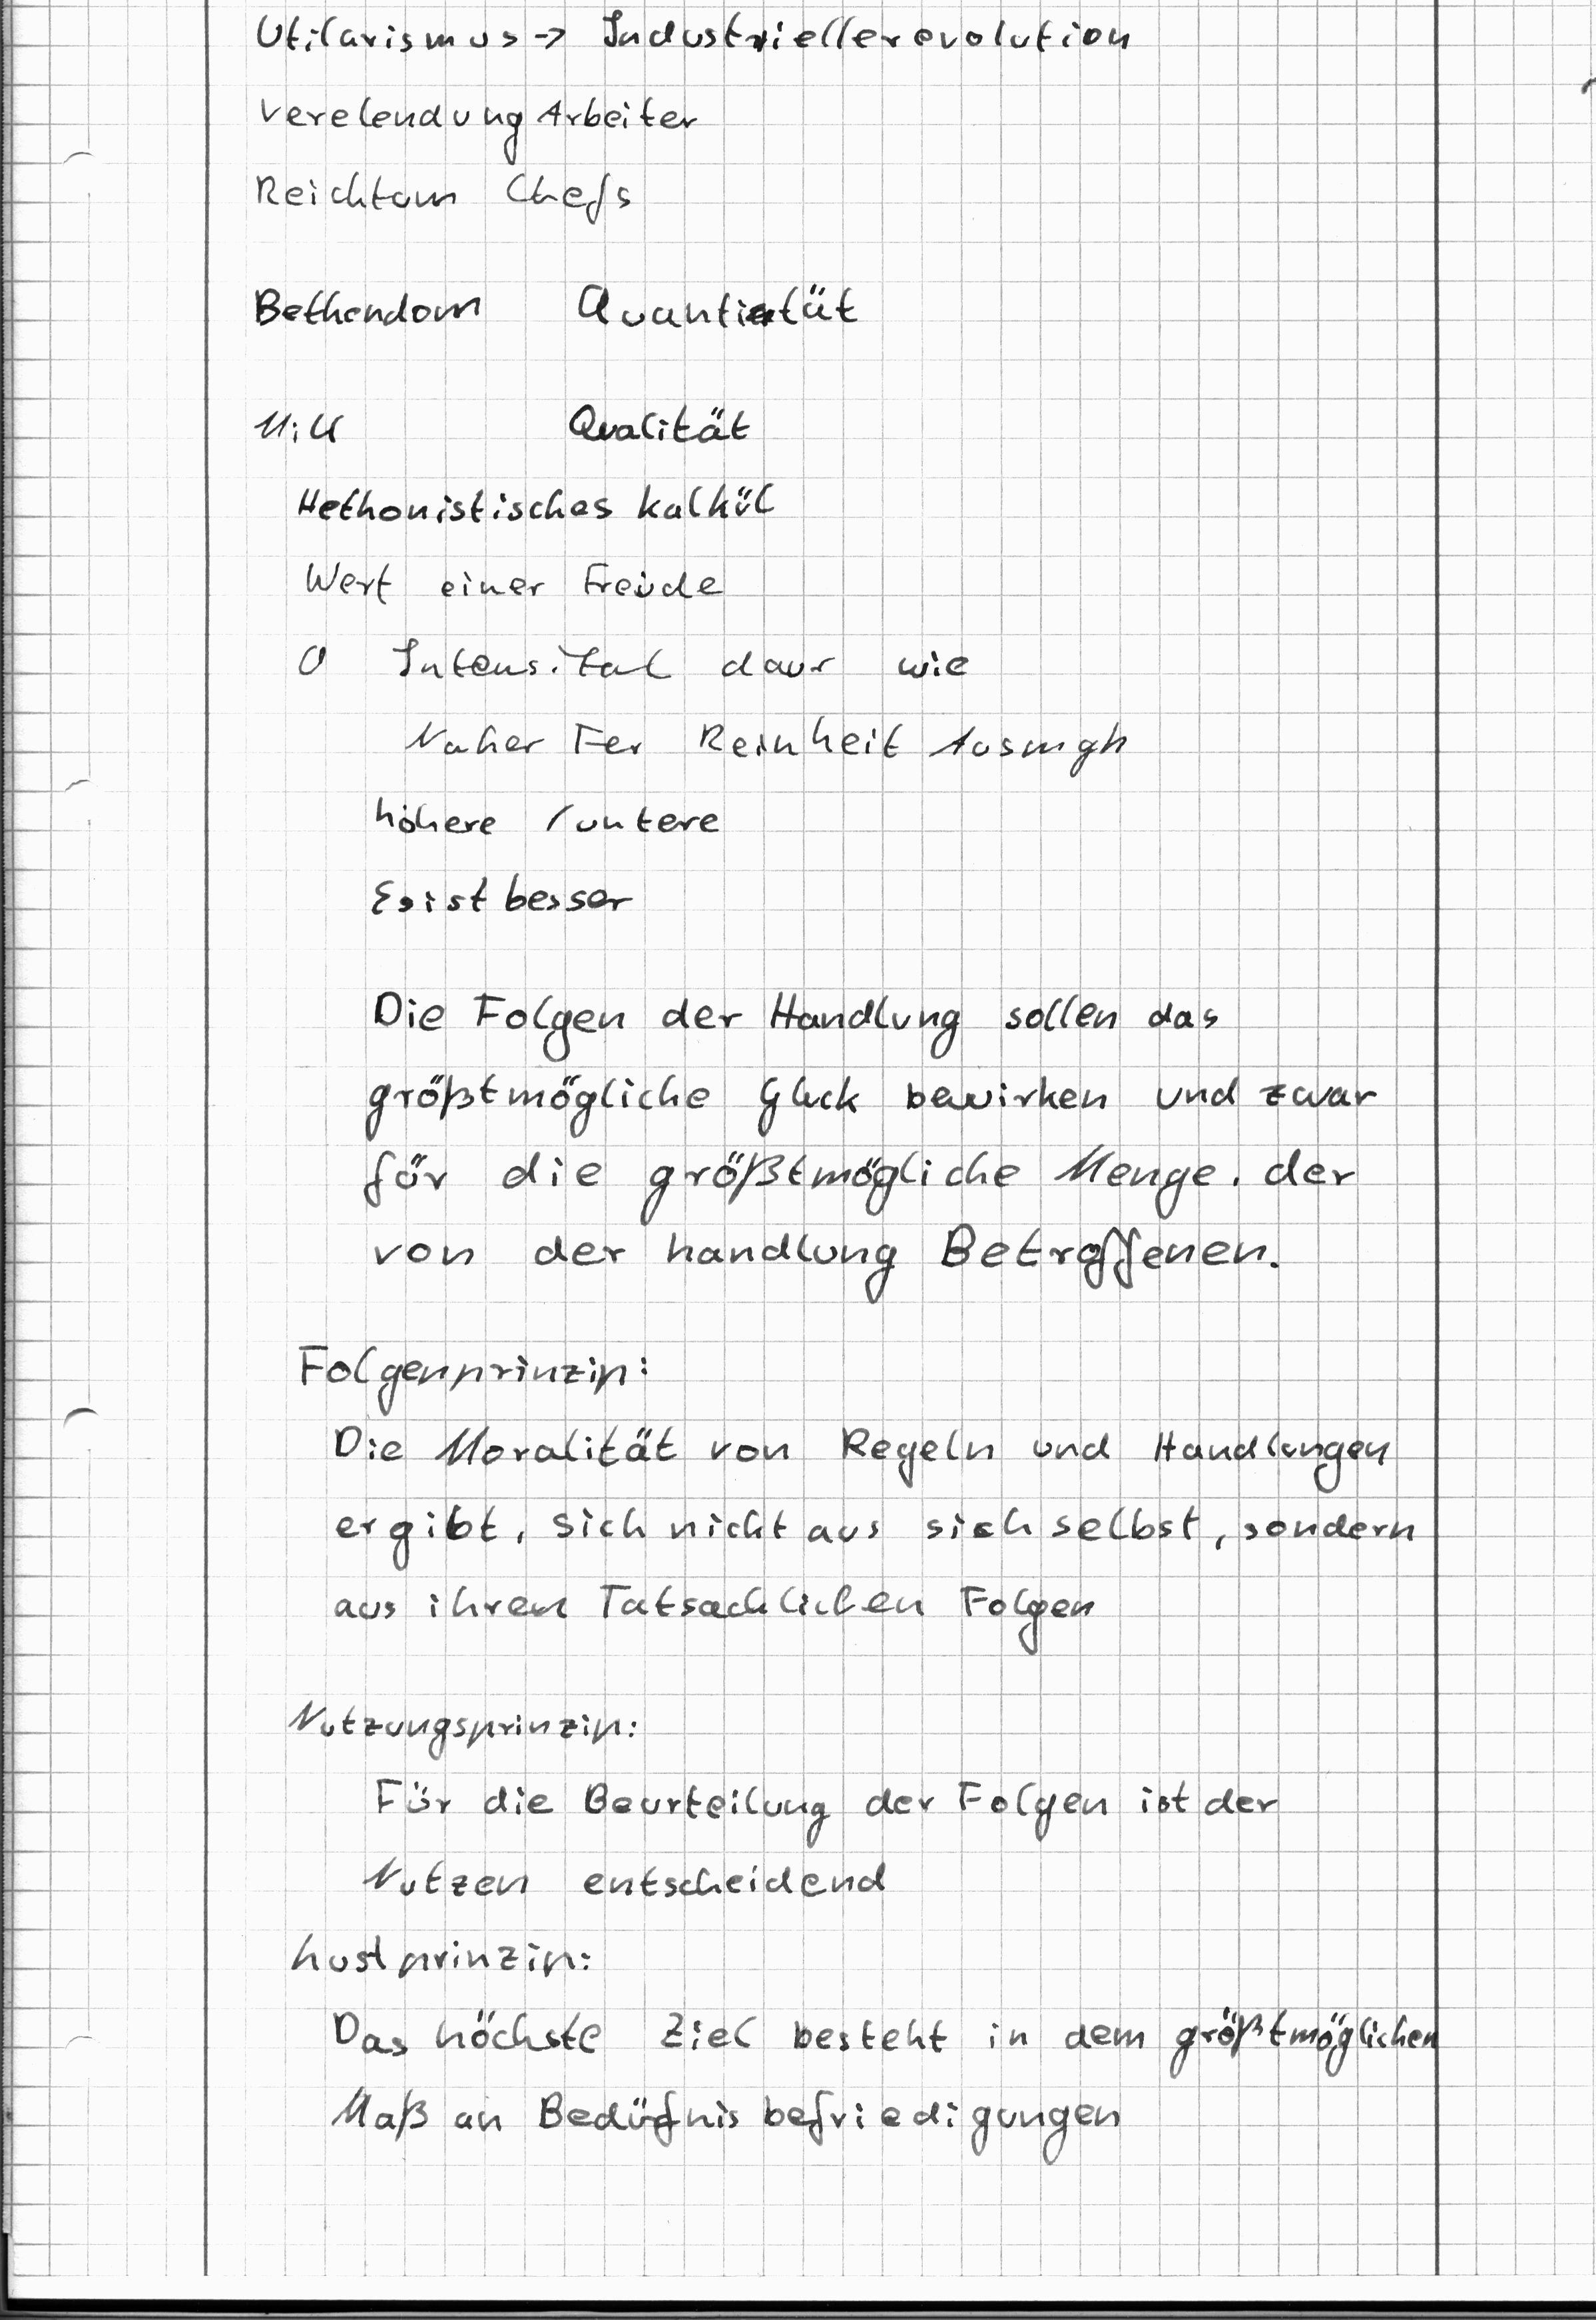word: (355, 978, 1385, 1311), (328, 1416, 1422, 1667), (319, 1994, 1448, 2176), (356, 1767, 1287, 1908), (384, 619, 1139, 786), (240, 78, 709, 239), (287, 477, 781, 612), (252, 1, 1137, 64), (362, 788, 733, 936), (553, 254, 888, 366), (287, 1329, 661, 1418), (276, 1683, 651, 1764), (270, 1908, 603, 1986), (540, 376, 784, 477), (243, 258, 498, 355), (238, 383, 378, 481)
